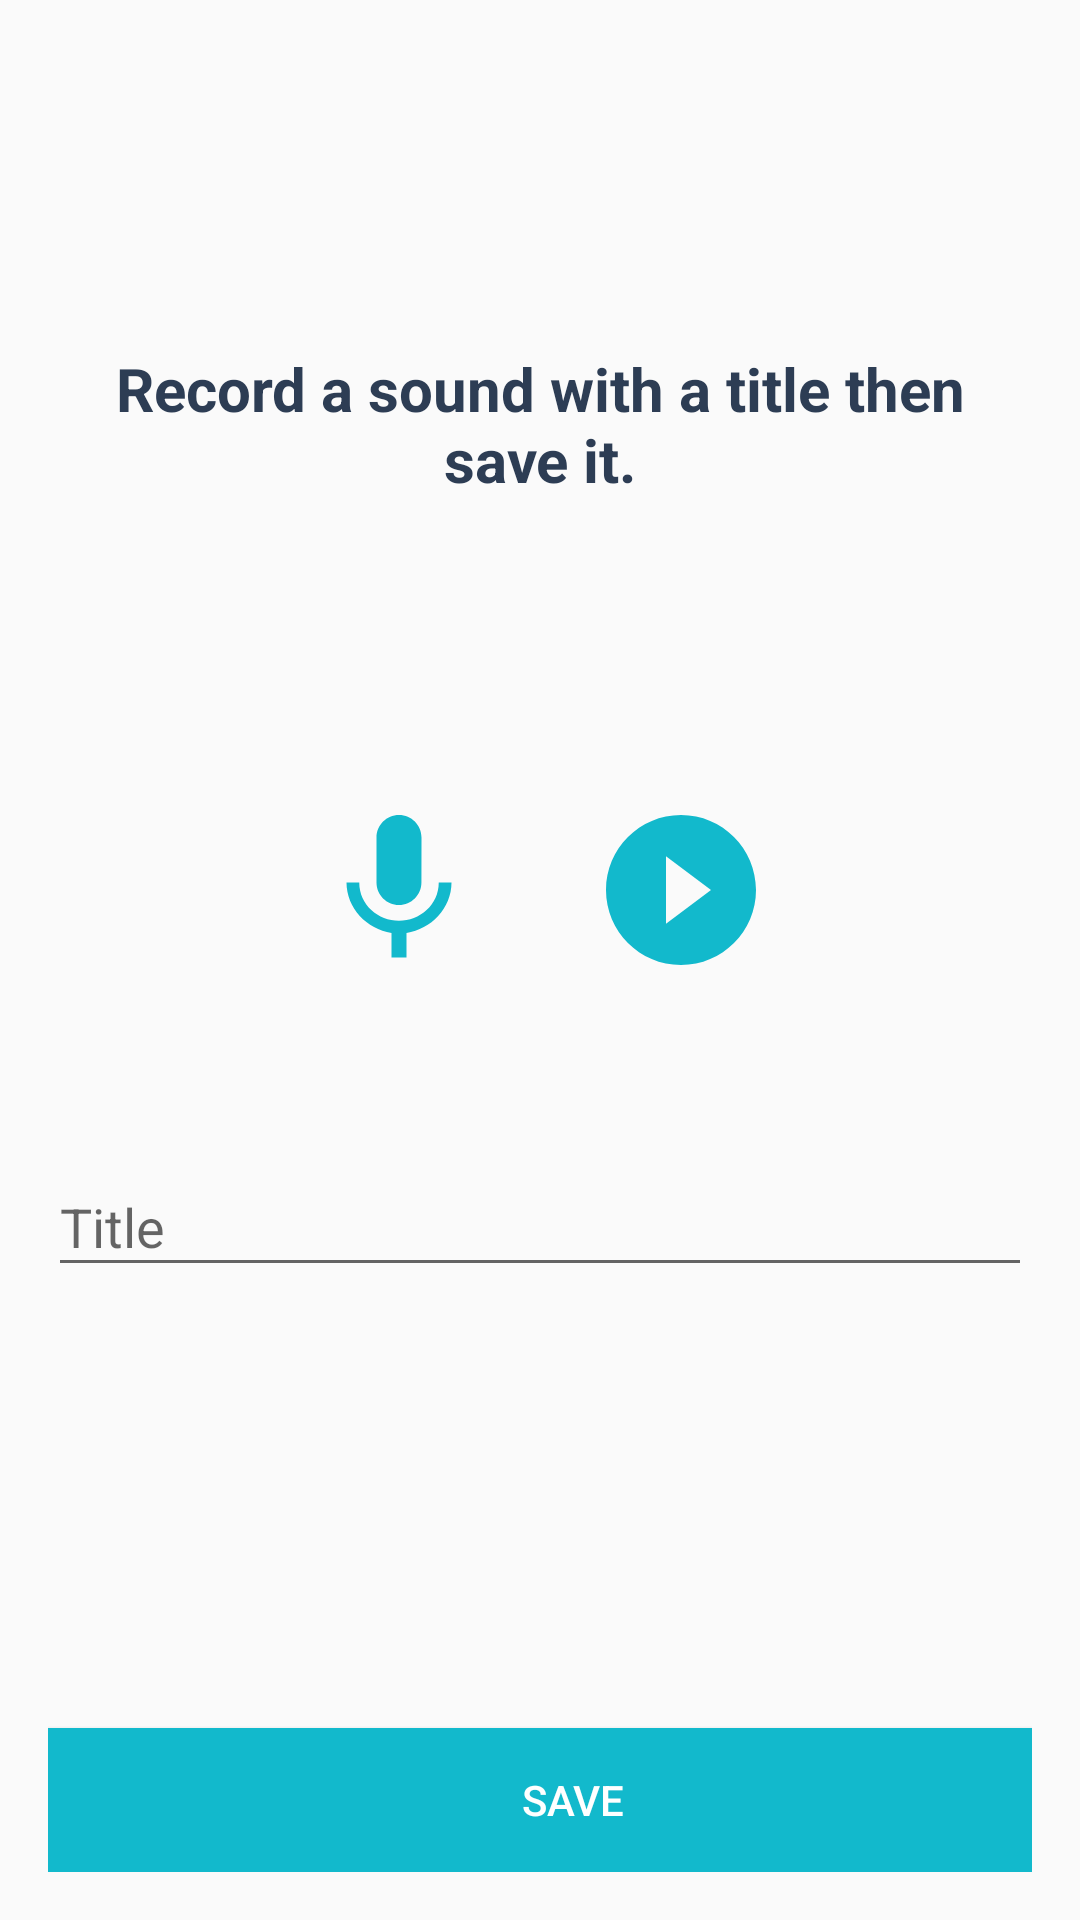

Icon bounding boxes for this 1080×1920 phone screenshot, format box=[x1, y1, x2, y2]:
mic: box=[346, 815, 452, 958]
play circle: box=[606, 815, 756, 965]
